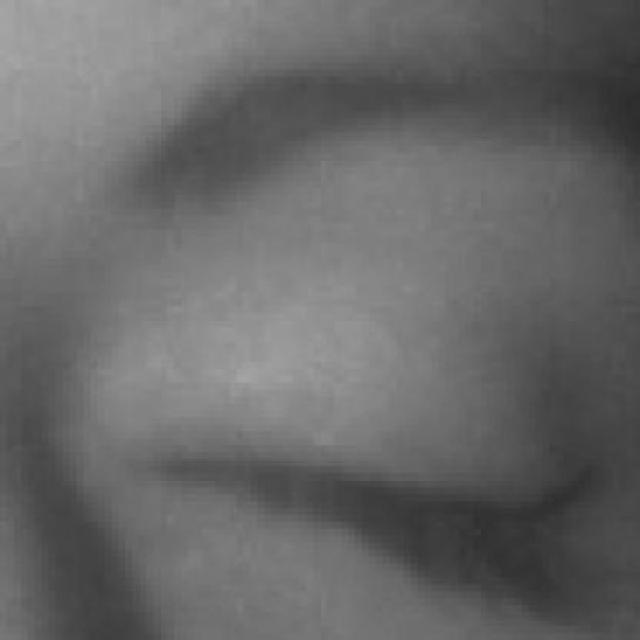drowsy: (132, 264, 606, 633)
